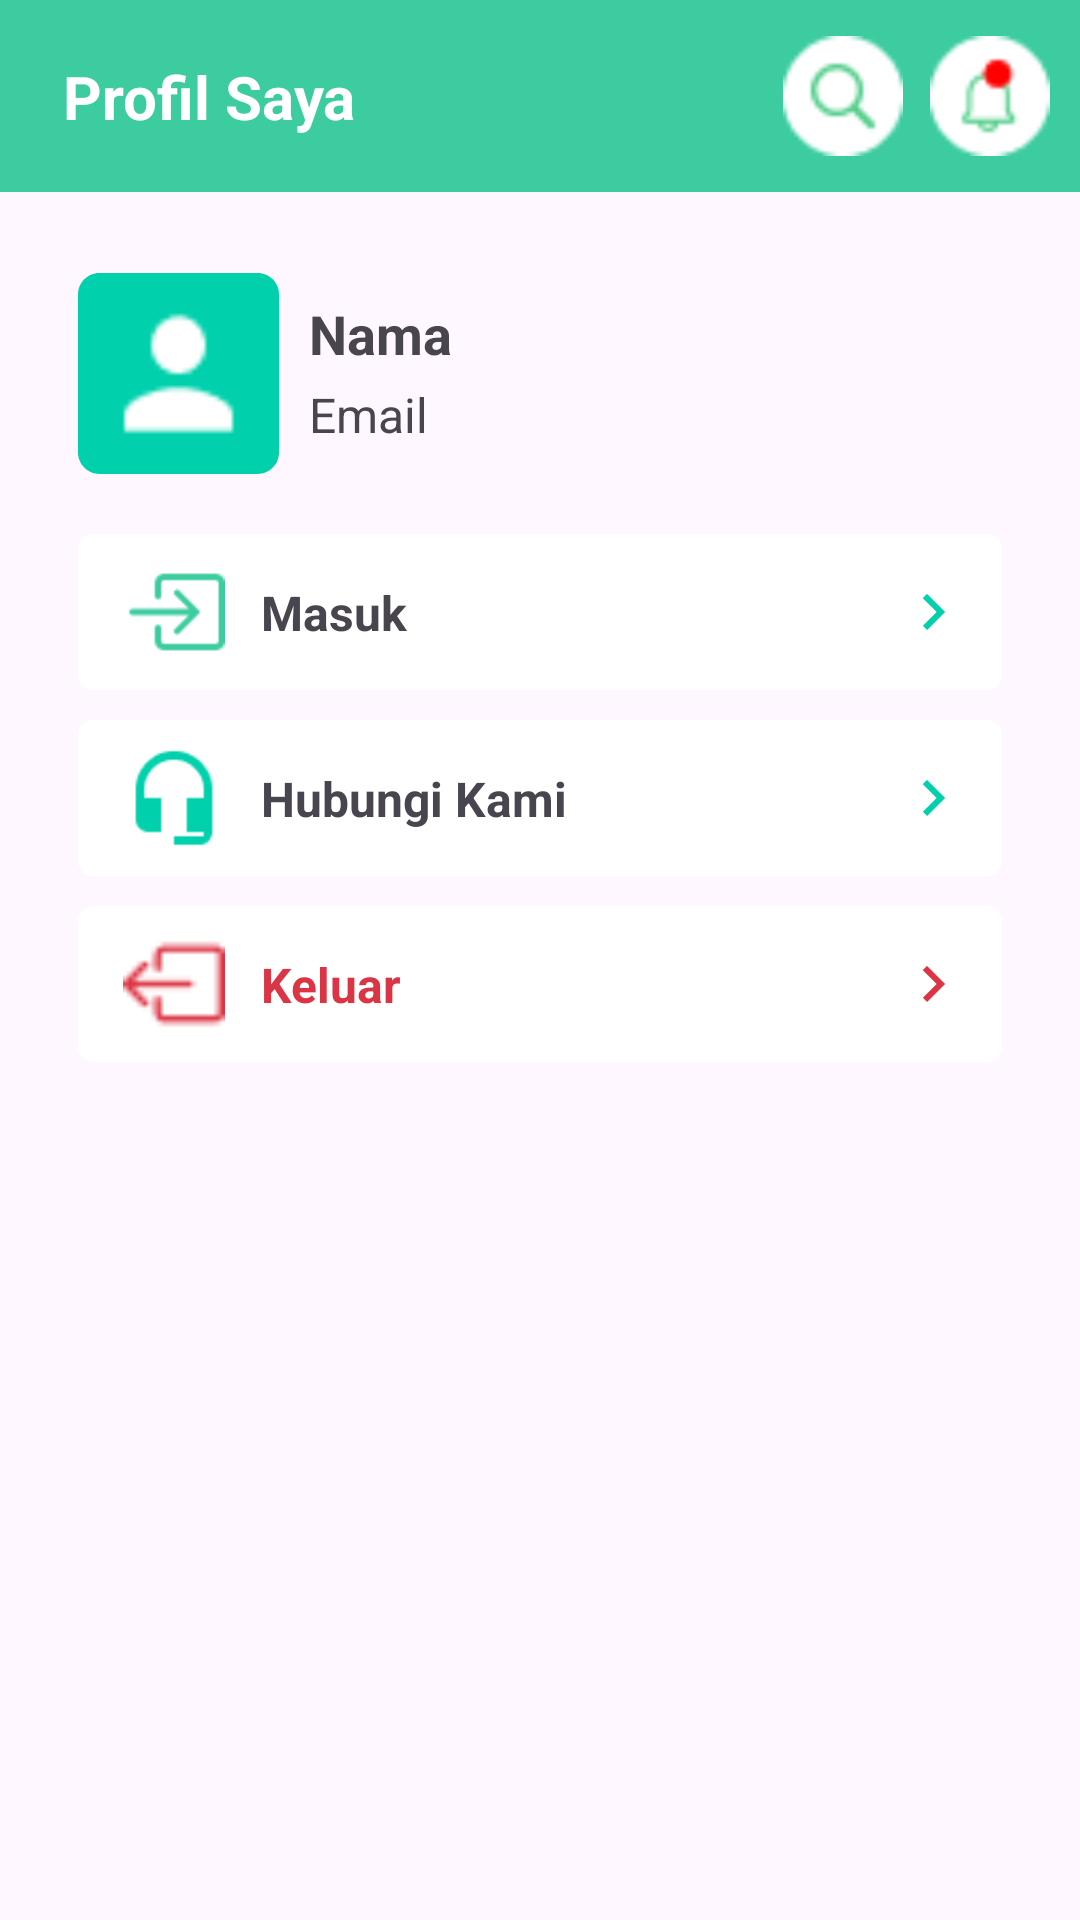

Icons on this 1080 × 1920 Android screen, each with the point to tap as (x=x, y=y):
arrow right: (x=934, y=612), (x=934, y=798), (x=934, y=984)
headset: (x=174, y=798)
login: (x=177, y=612)
notif: (x=990, y=96)
person: (x=178, y=373)
search profil: (x=843, y=96)
